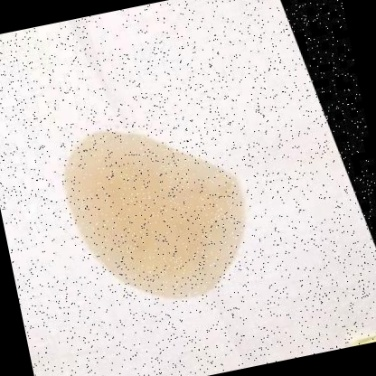coffee: (55, 105, 258, 321)
